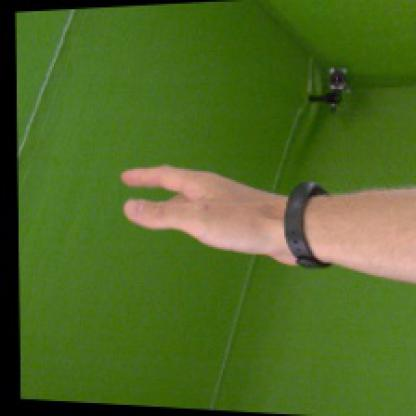Hand: (120, 164, 316, 267)
